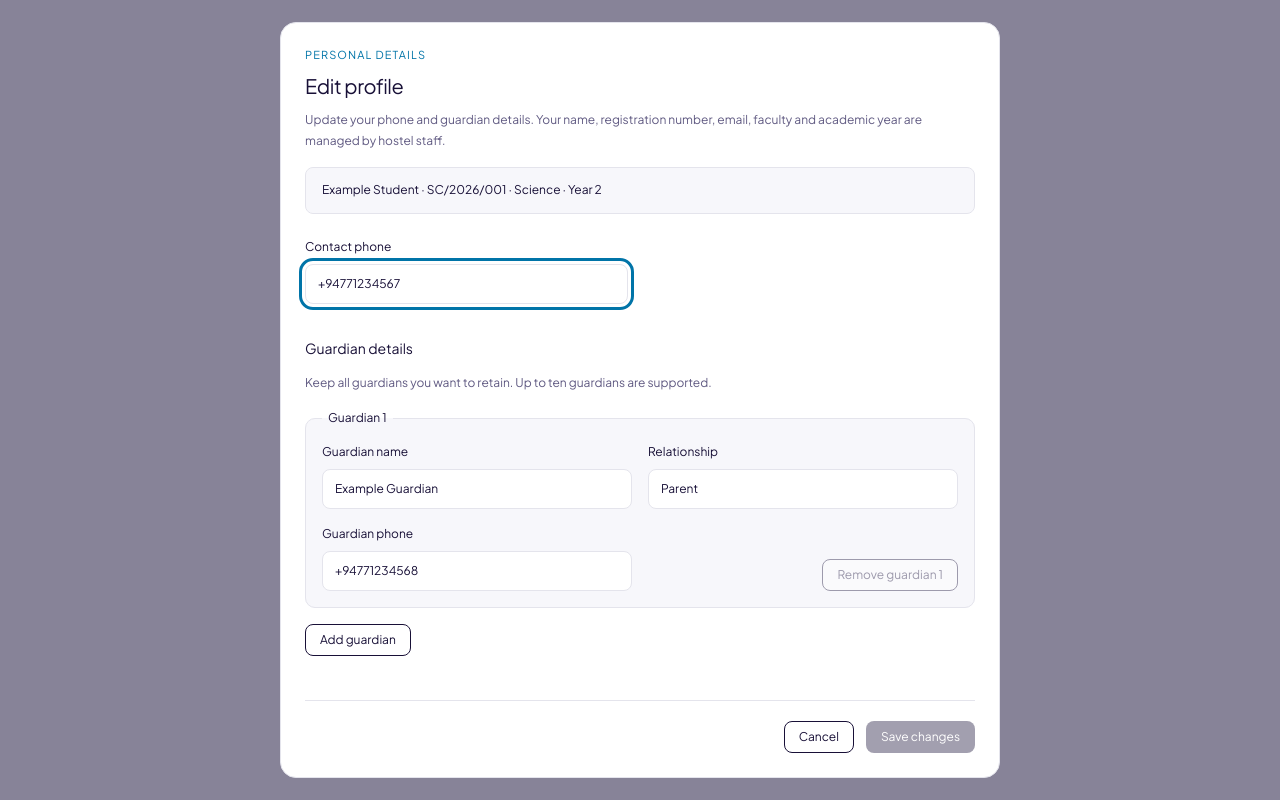
validates phone and guardian details without sending invalid writes
Replace the text in the field labelled "Contact phone" with "abc": (466, 284) [305,264,628,304]
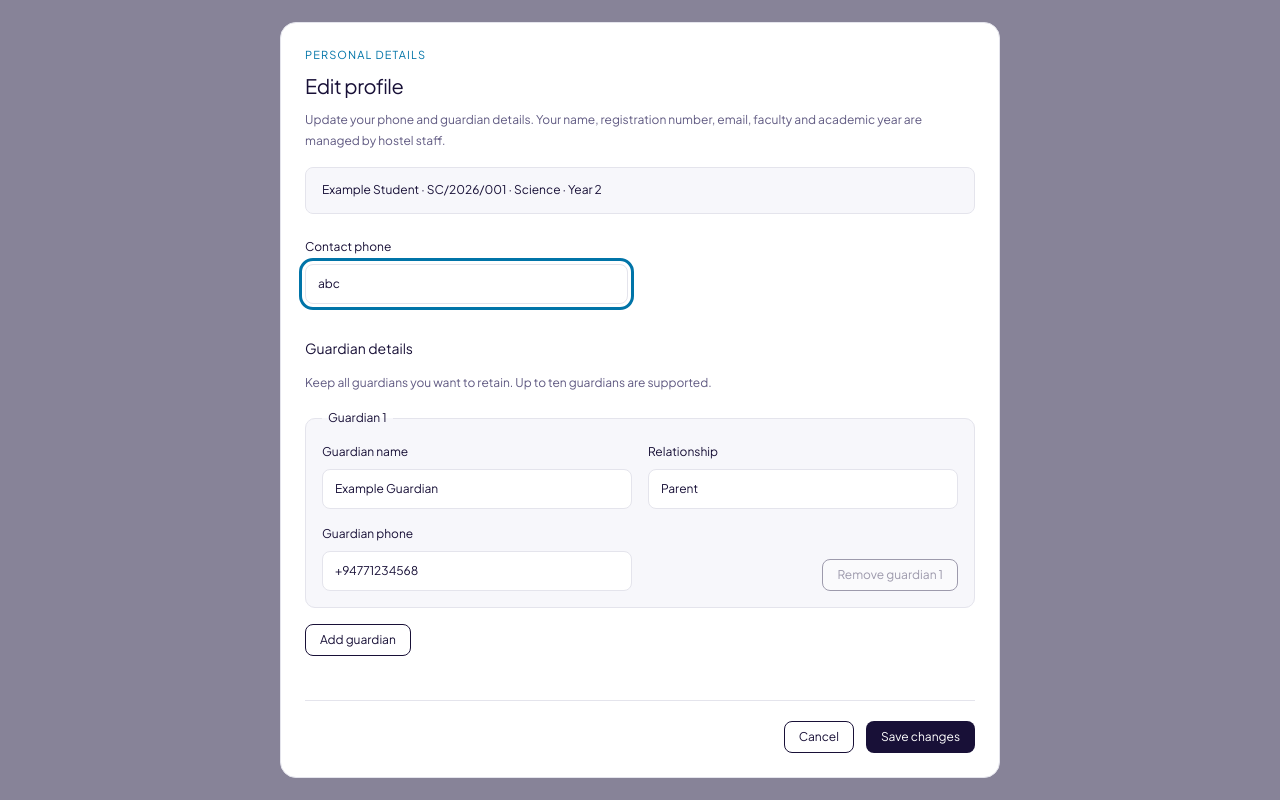
Click the button "Save changes": (920, 737) [866,721,975,753]
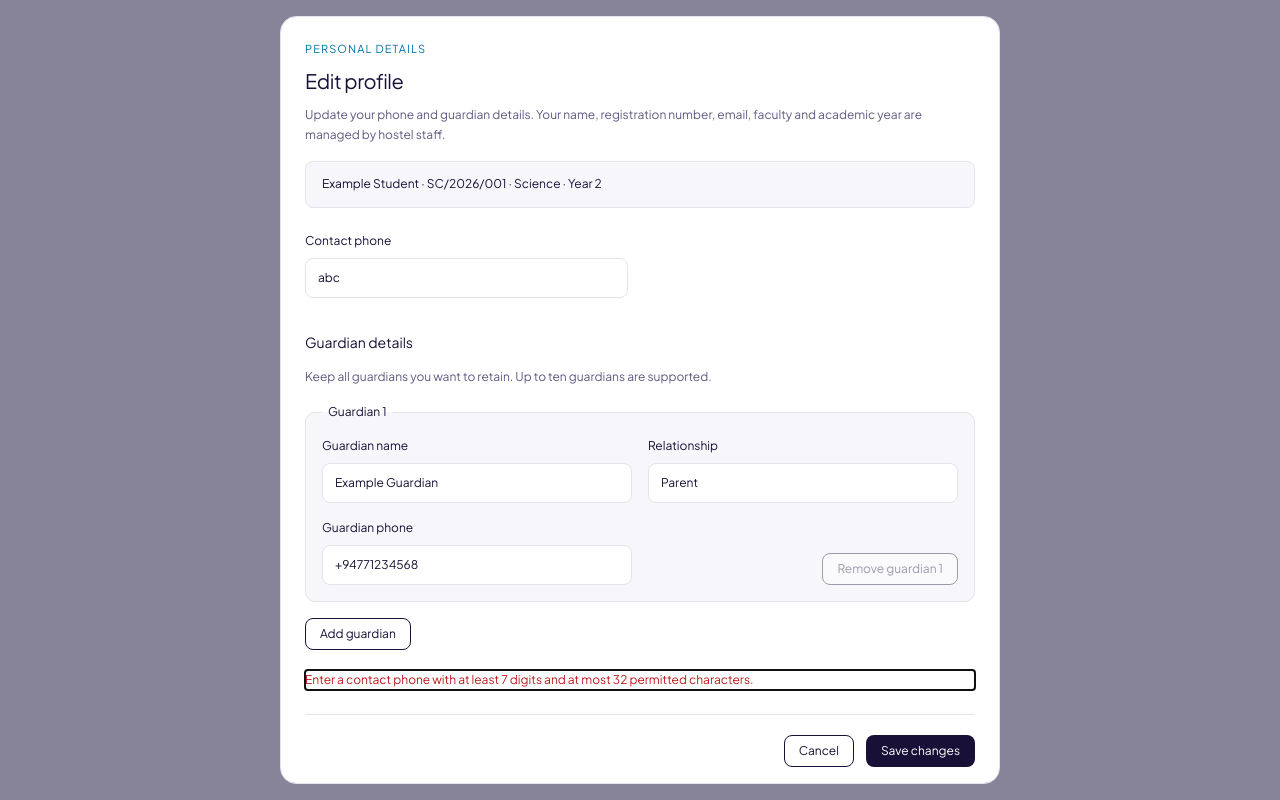
Result: the message shows "at least 7 digits" at [305,672,754,687]
